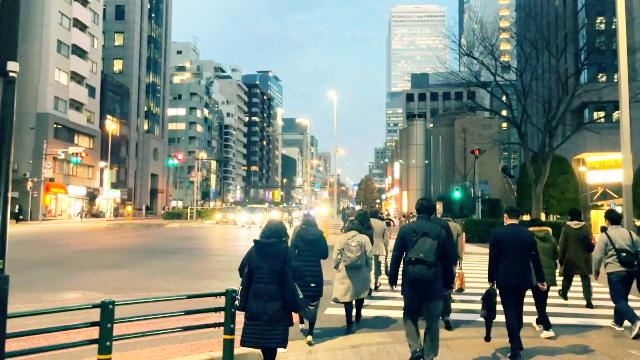berjalan: (392, 198, 452, 360), (232, 217, 294, 359), (492, 206, 536, 360), (329, 220, 377, 336), (553, 207, 599, 311), (291, 212, 325, 346)
